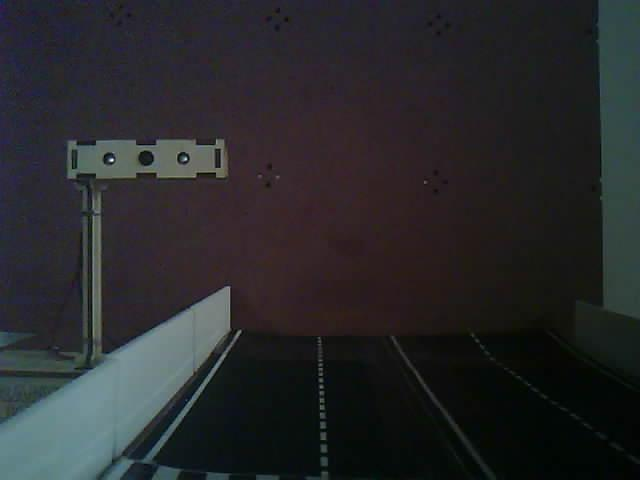crosswalk: (80, 447, 444, 480)
no: (46, 113, 242, 420)
